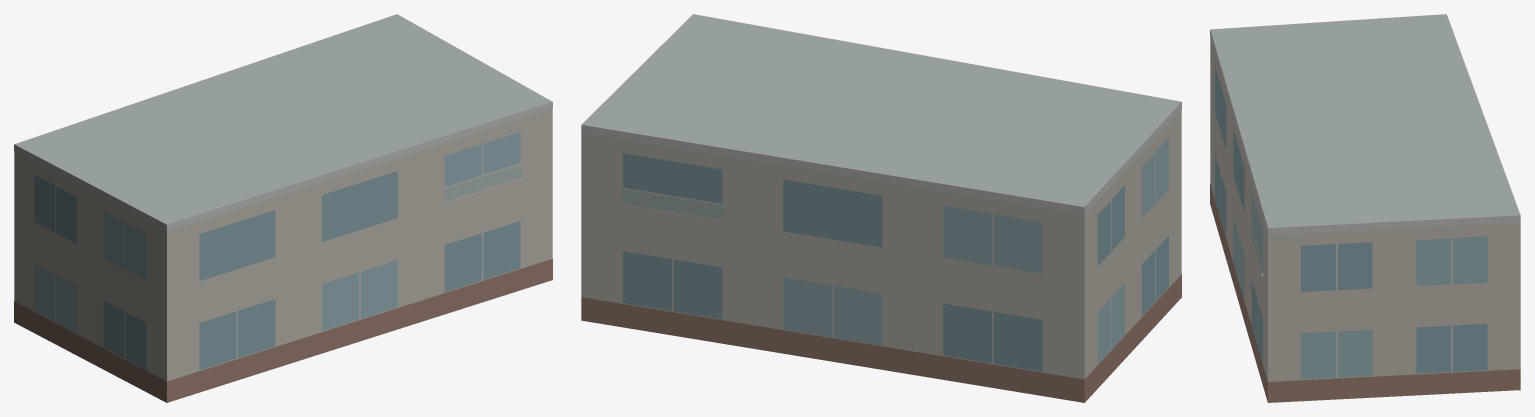
Rendered from survey-upis-32698544.glb.
3 renders of one model, left to right at view 1: azimuth 30°, elevation 25°; view 2: azimuth 150°, elevation 25°; view 3: azimuth 270°, elevation 25°, orthographic. The views are drawn at different scales.
Parts seen in each view (by area): view 1: survey-upis-32698544.tmp; view 2: survey-upis-32698544.tmp; view 3: survey-upis-32698544.tmp.
Boxes of the visible parts, left/top/right/bottom form: survey-upis-32698544.tmp: left=14, top=14, right=552, bottom=402; survey-upis-32698544.tmp: left=581, top=14, right=1181, bottom=402; survey-upis-32698544.tmp: left=1210, top=14, right=1520, bottom=402.
Bounding box in the file's own units: 16.04 × 6.1 × 9.83.
